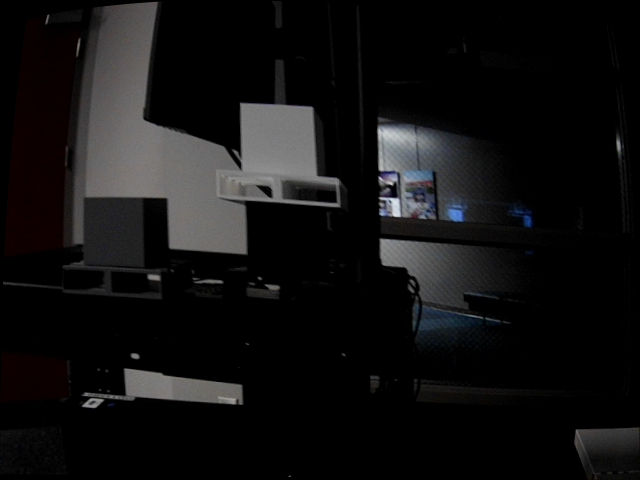black pallet: (219, 201, 349, 306)
grey pallet: (59, 190, 190, 301)
white pallet: (213, 101, 346, 210)
